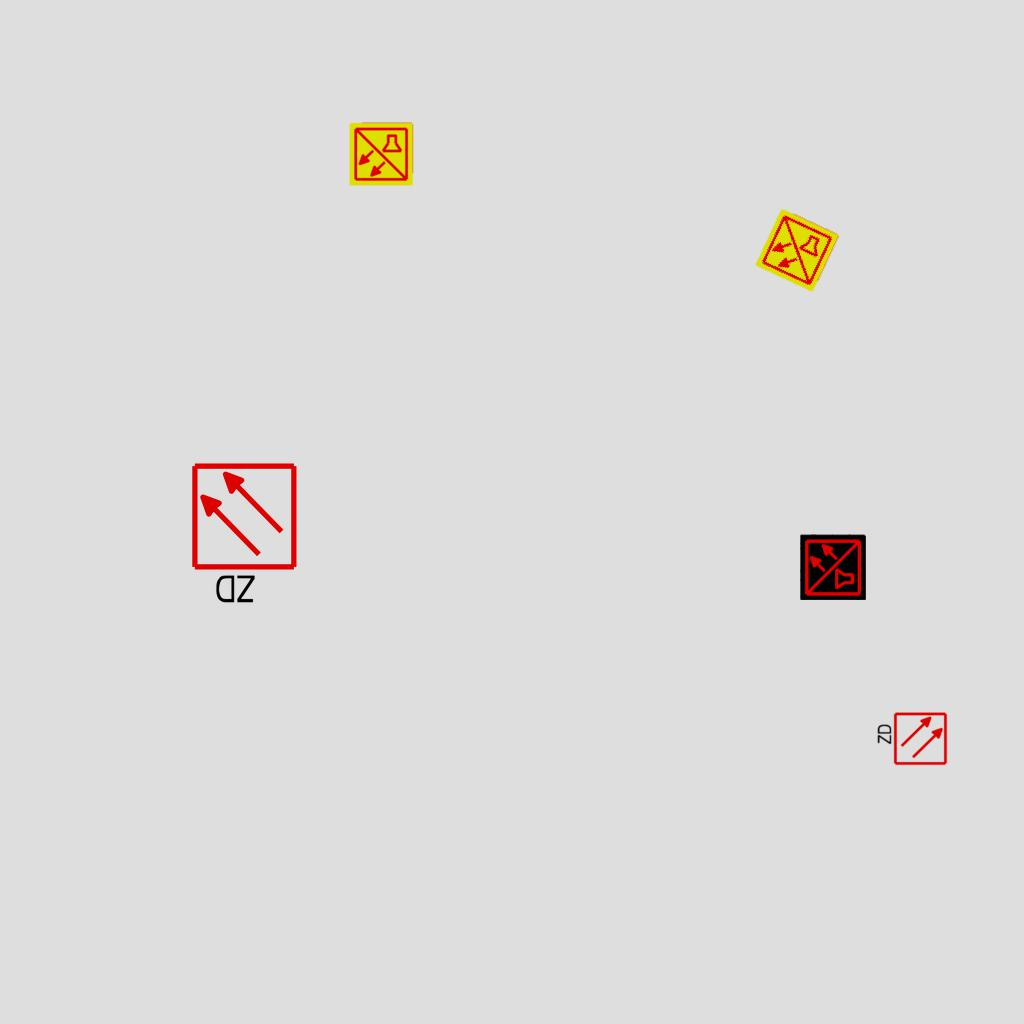OKW_Multisensormelder_(Kombination_optischer_Rauch-Kahlenmonoxid_Waerme-Melder): (753, 206, 841, 294), (348, 121, 414, 187), (800, 534, 866, 600)
ZD_Melder_in_Zwischendecke_mit_Revisionsoeffnung_mind_40_x_40_cm: (189, 461, 303, 610), (874, 711, 948, 768)
